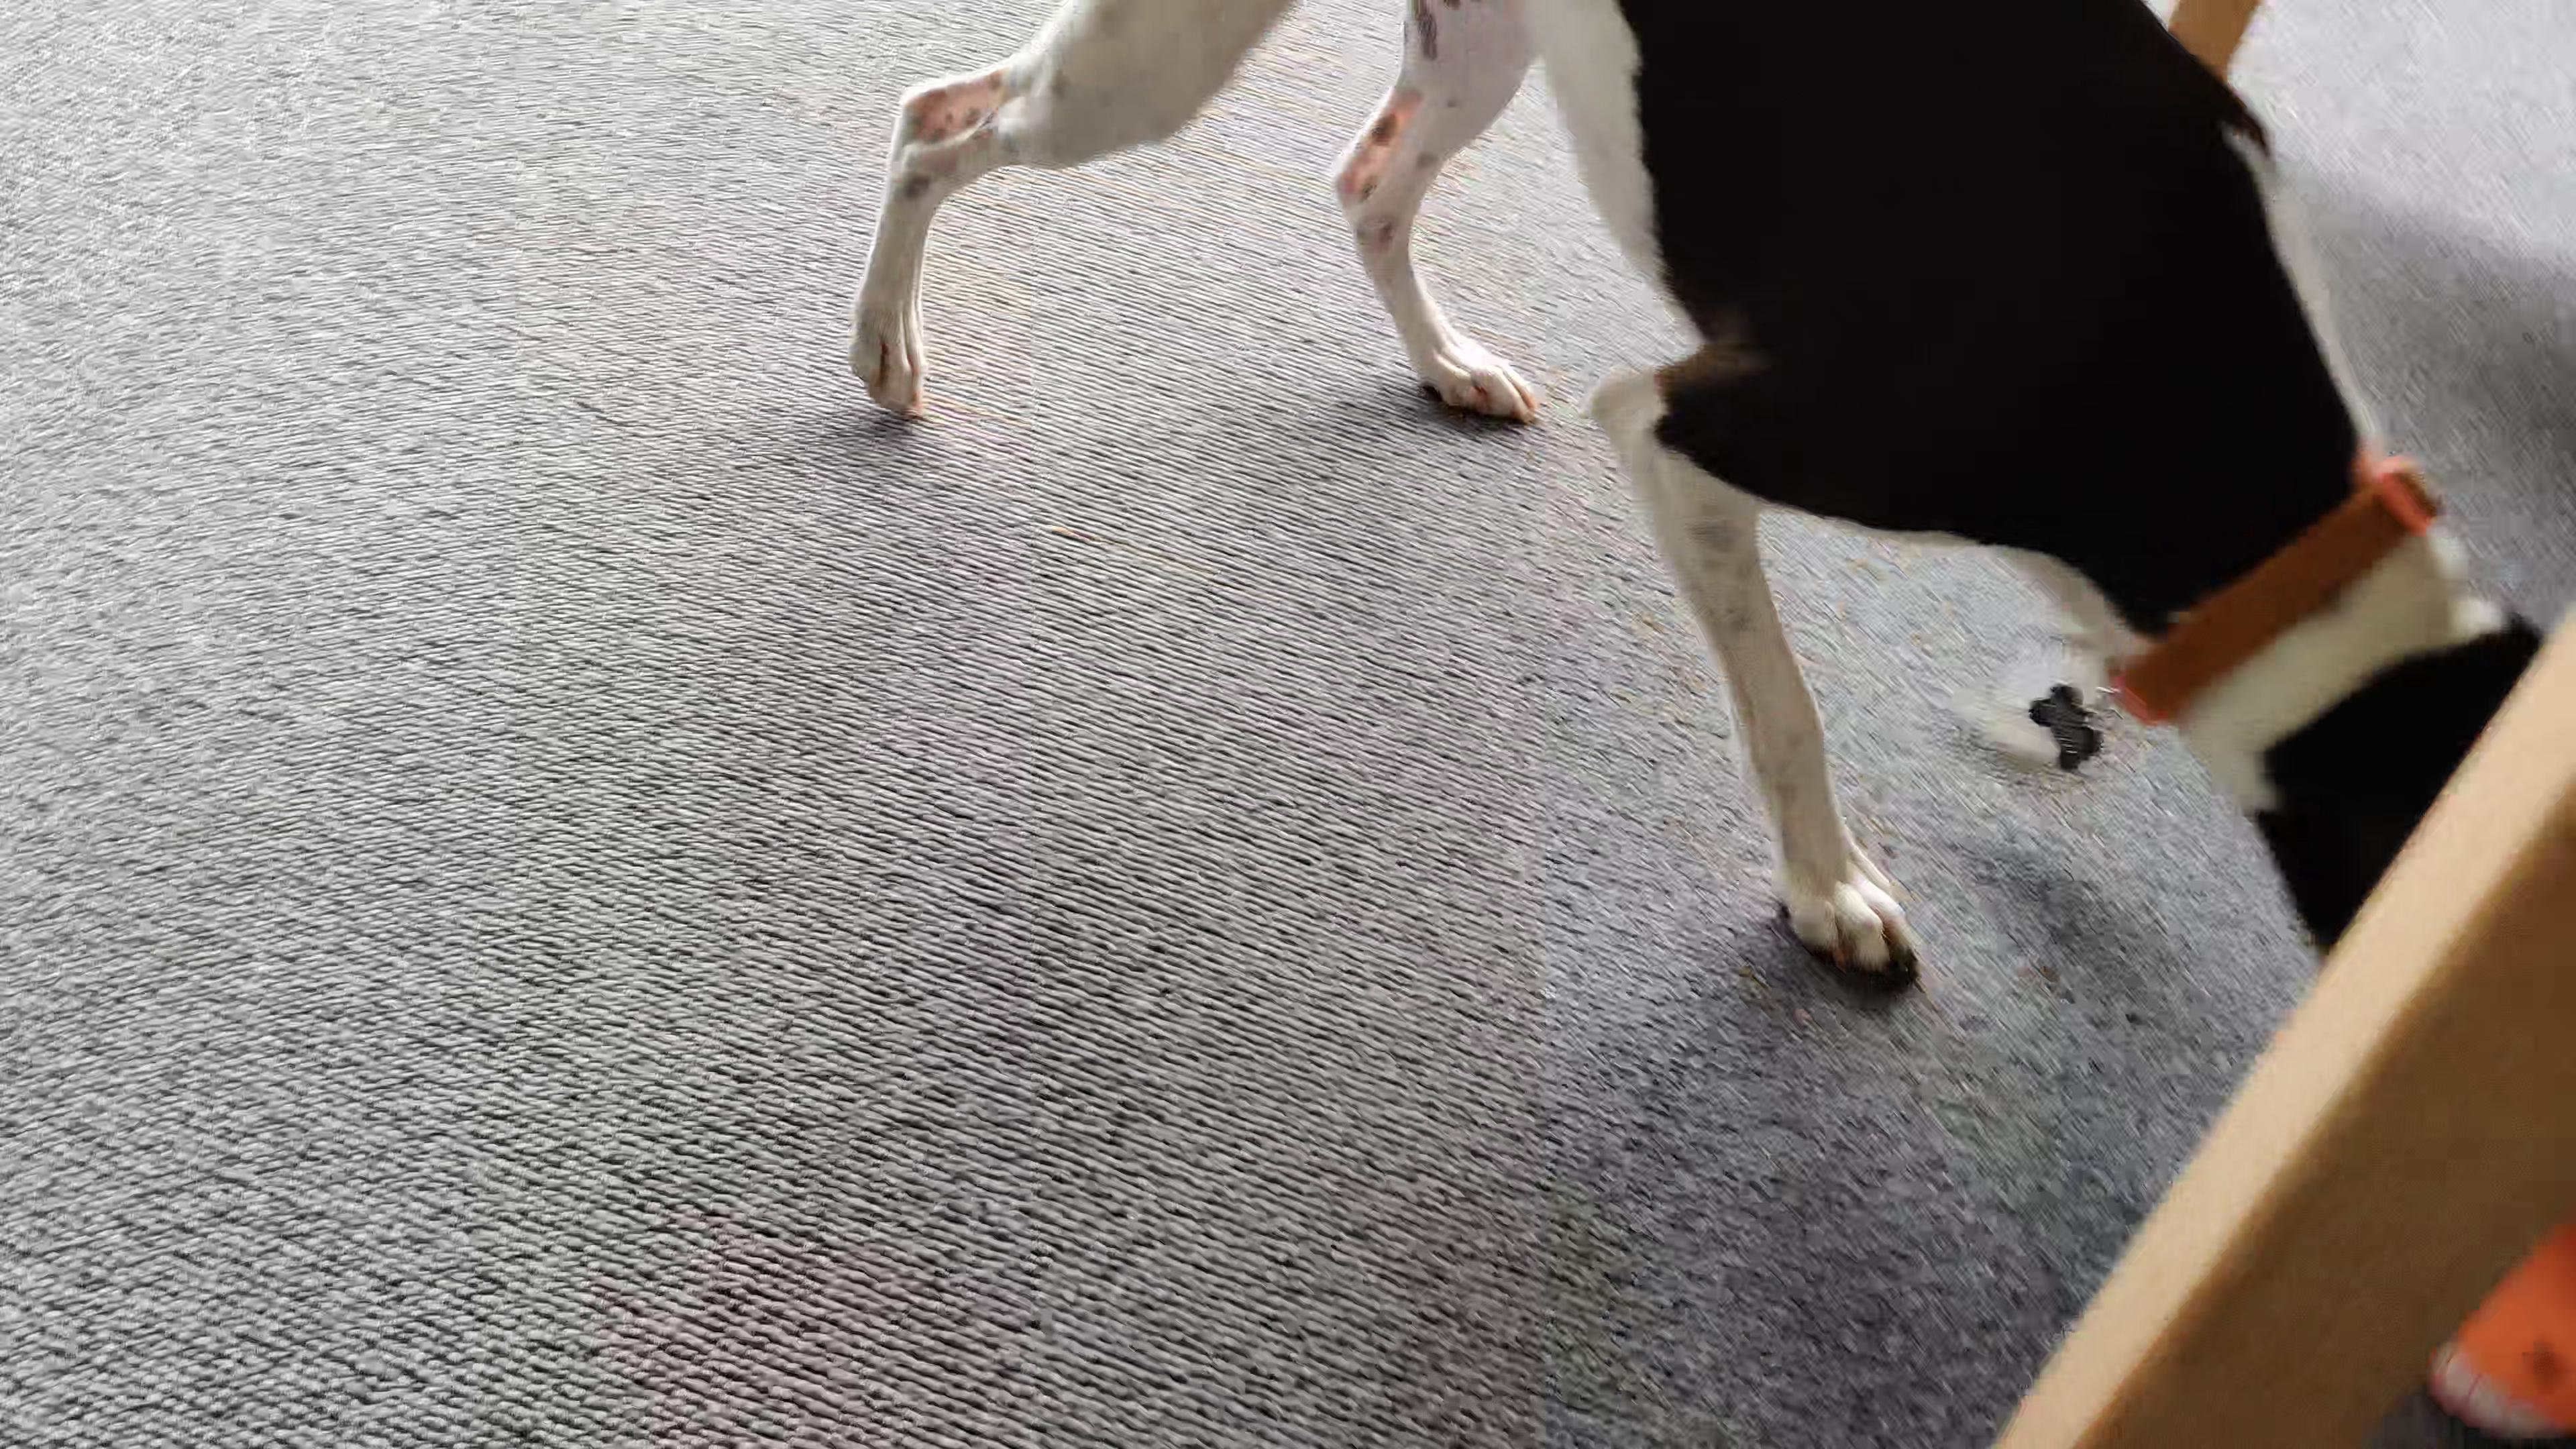Dog: (844, 0, 2557, 1008)
